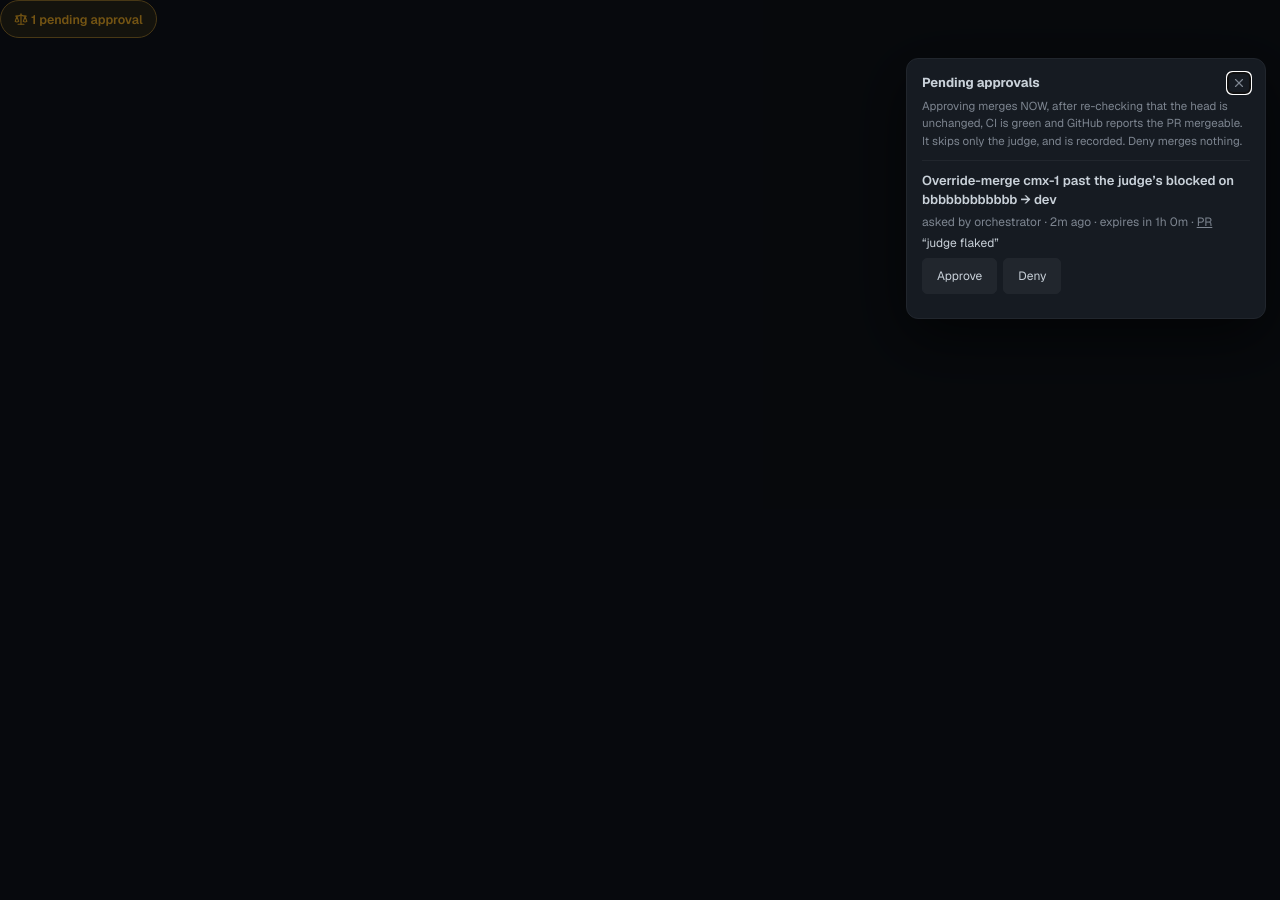
a refusal {"ok":false,"state":"expired"} reads expired
Click the button "Deny" at x=1032, y=276, box [1003,258,1061,294]
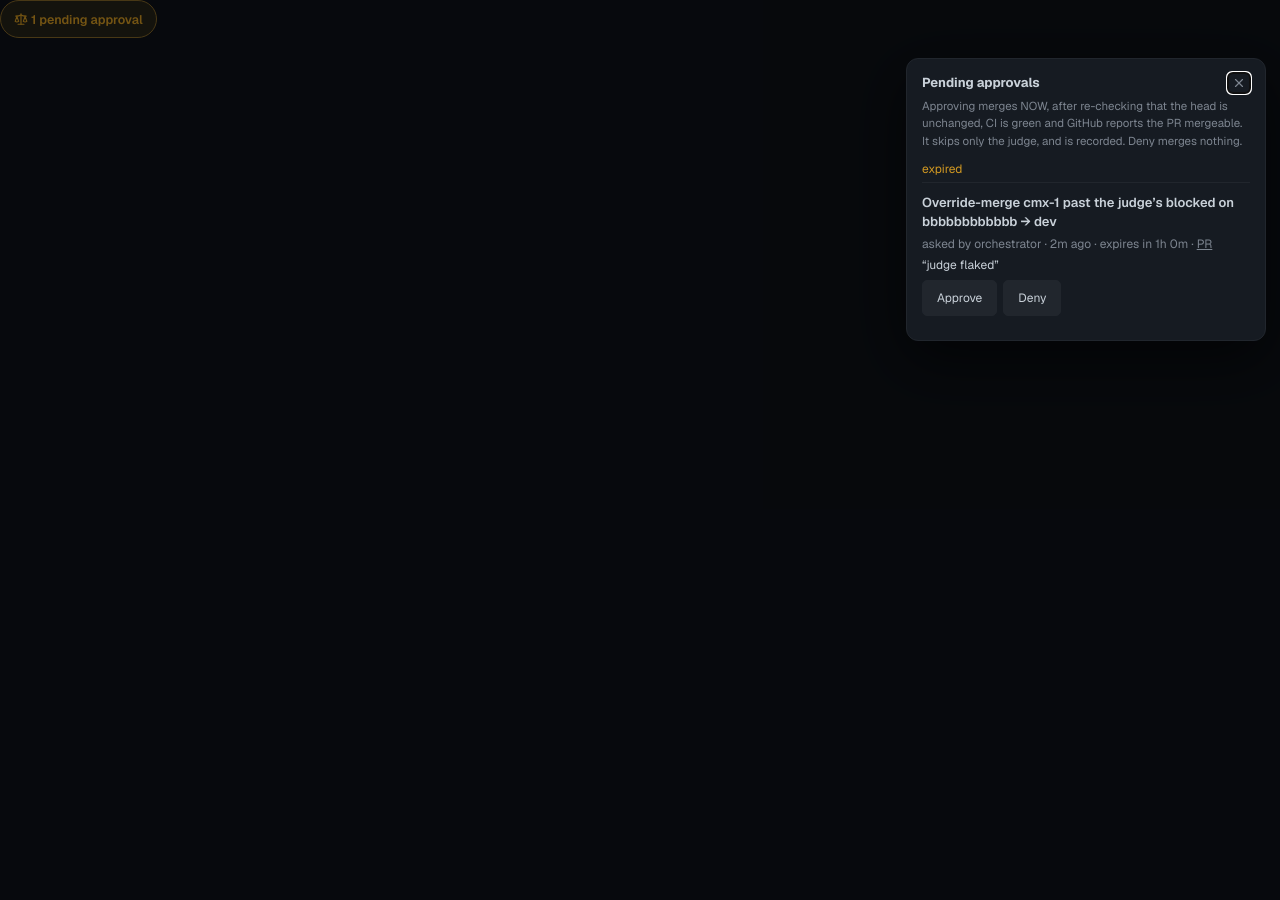
Expected: the message "expired" is shown, [922,161,962,177]
